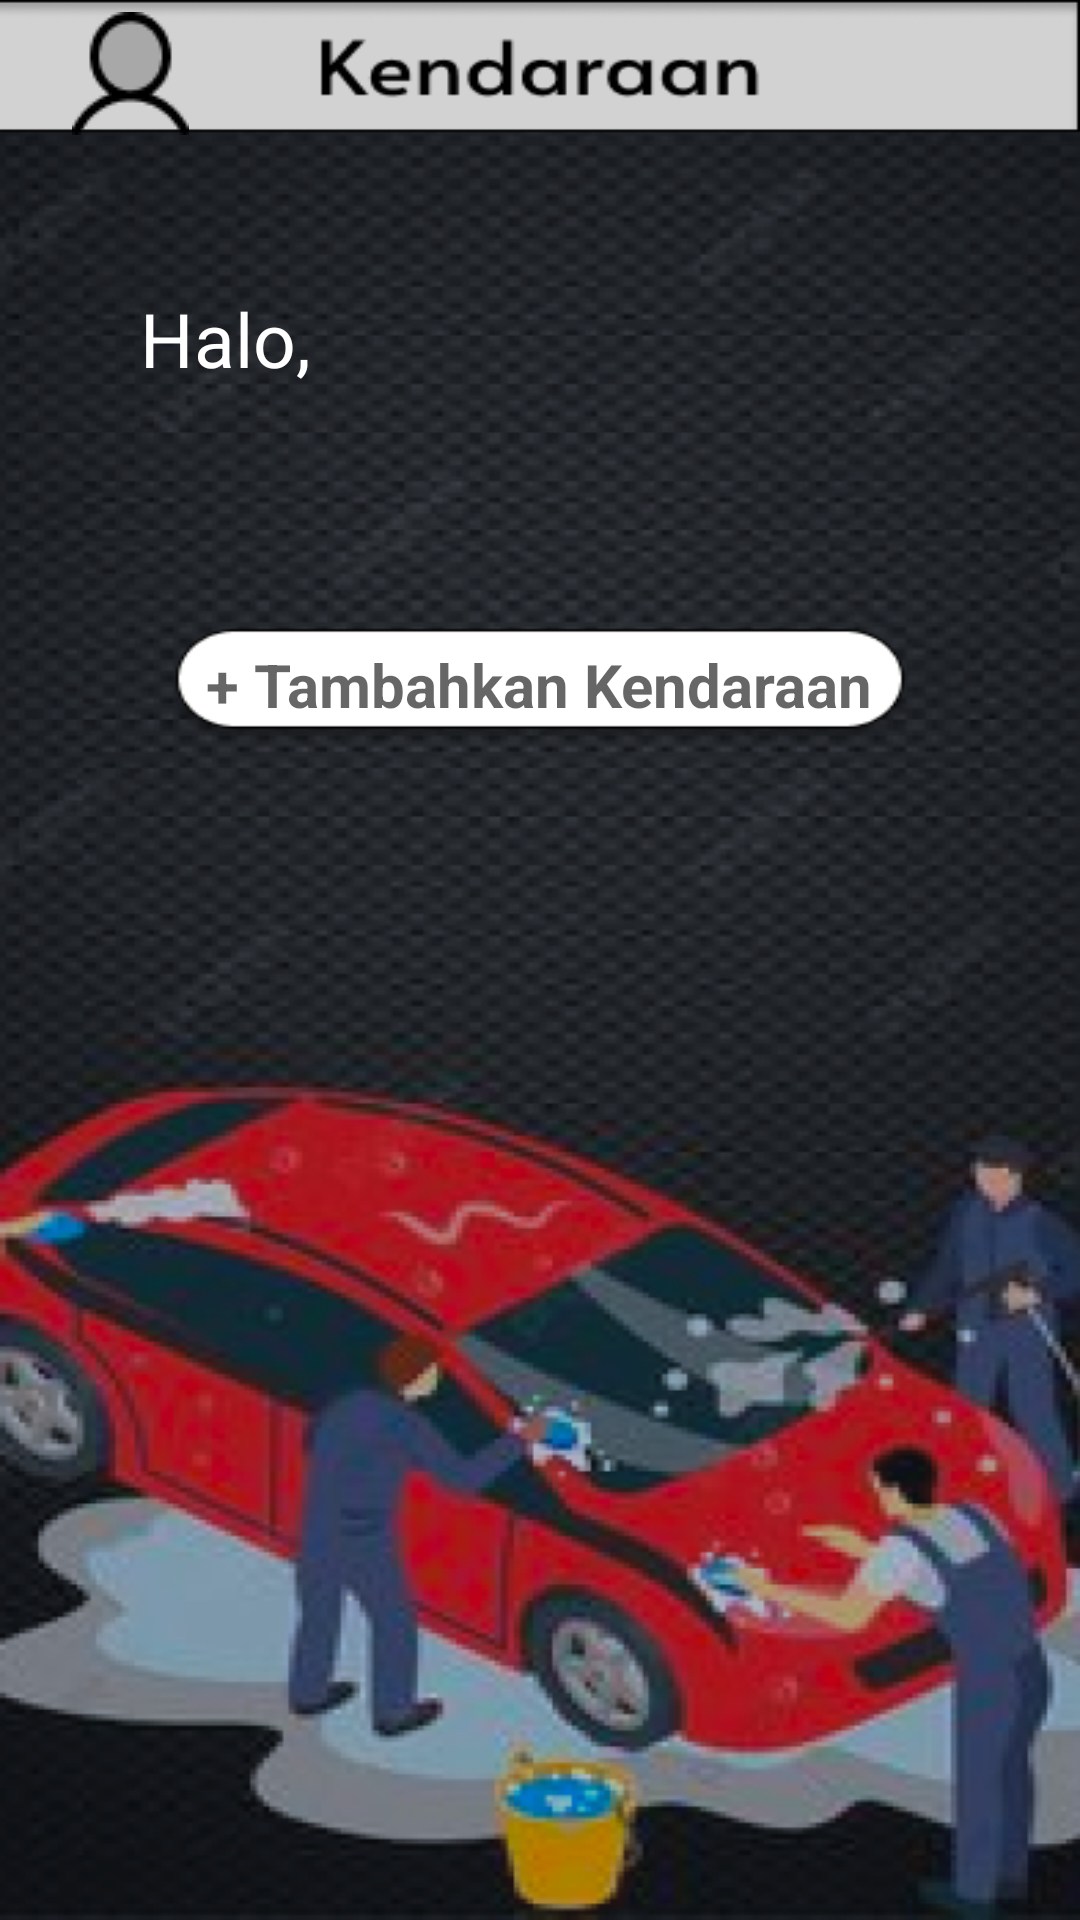

Screen size 1080*1920. Icon name, then its center in pixels as point (x, y):
acc photo: point (130, 73)
